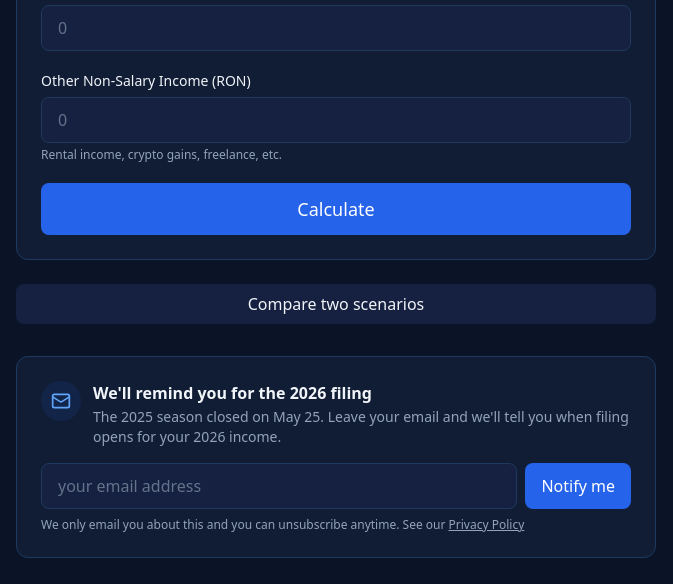
WhatIfSimulator › shows a validation error and no comparison when both scenarios are empty
The image size is (673, 584).
(page scrolled)
Click the button "Compare two scenarios".
click(336, 304)  # box [16,284,656,324]
(page scrolled)
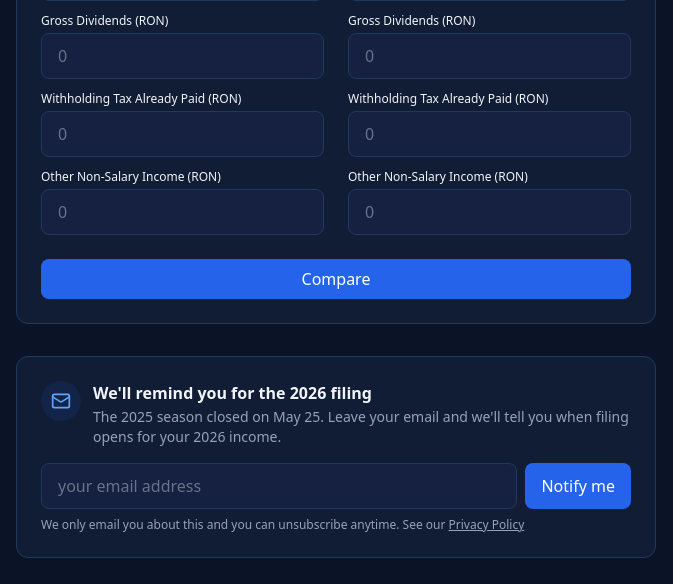
Click the button "Compare".
click(336, 279)  # box [41,259,631,299]
(page scrolled)
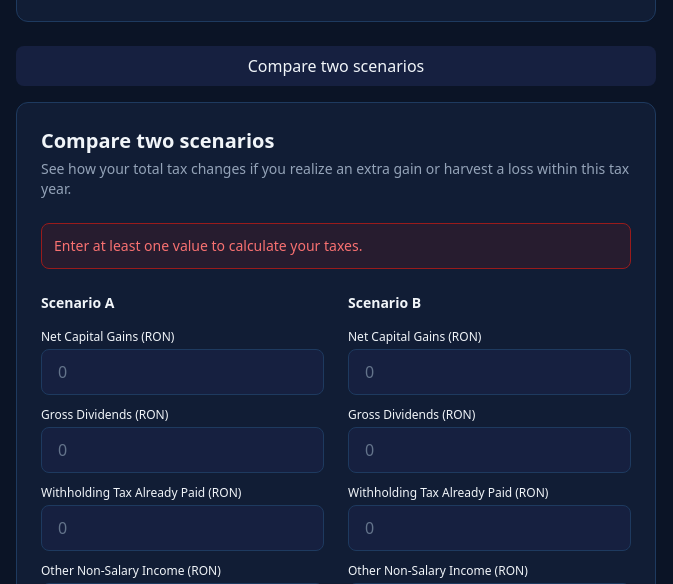
expect the message "Enter at least one value to calculate your taxes." is shown: met, box [41,223,631,269]
